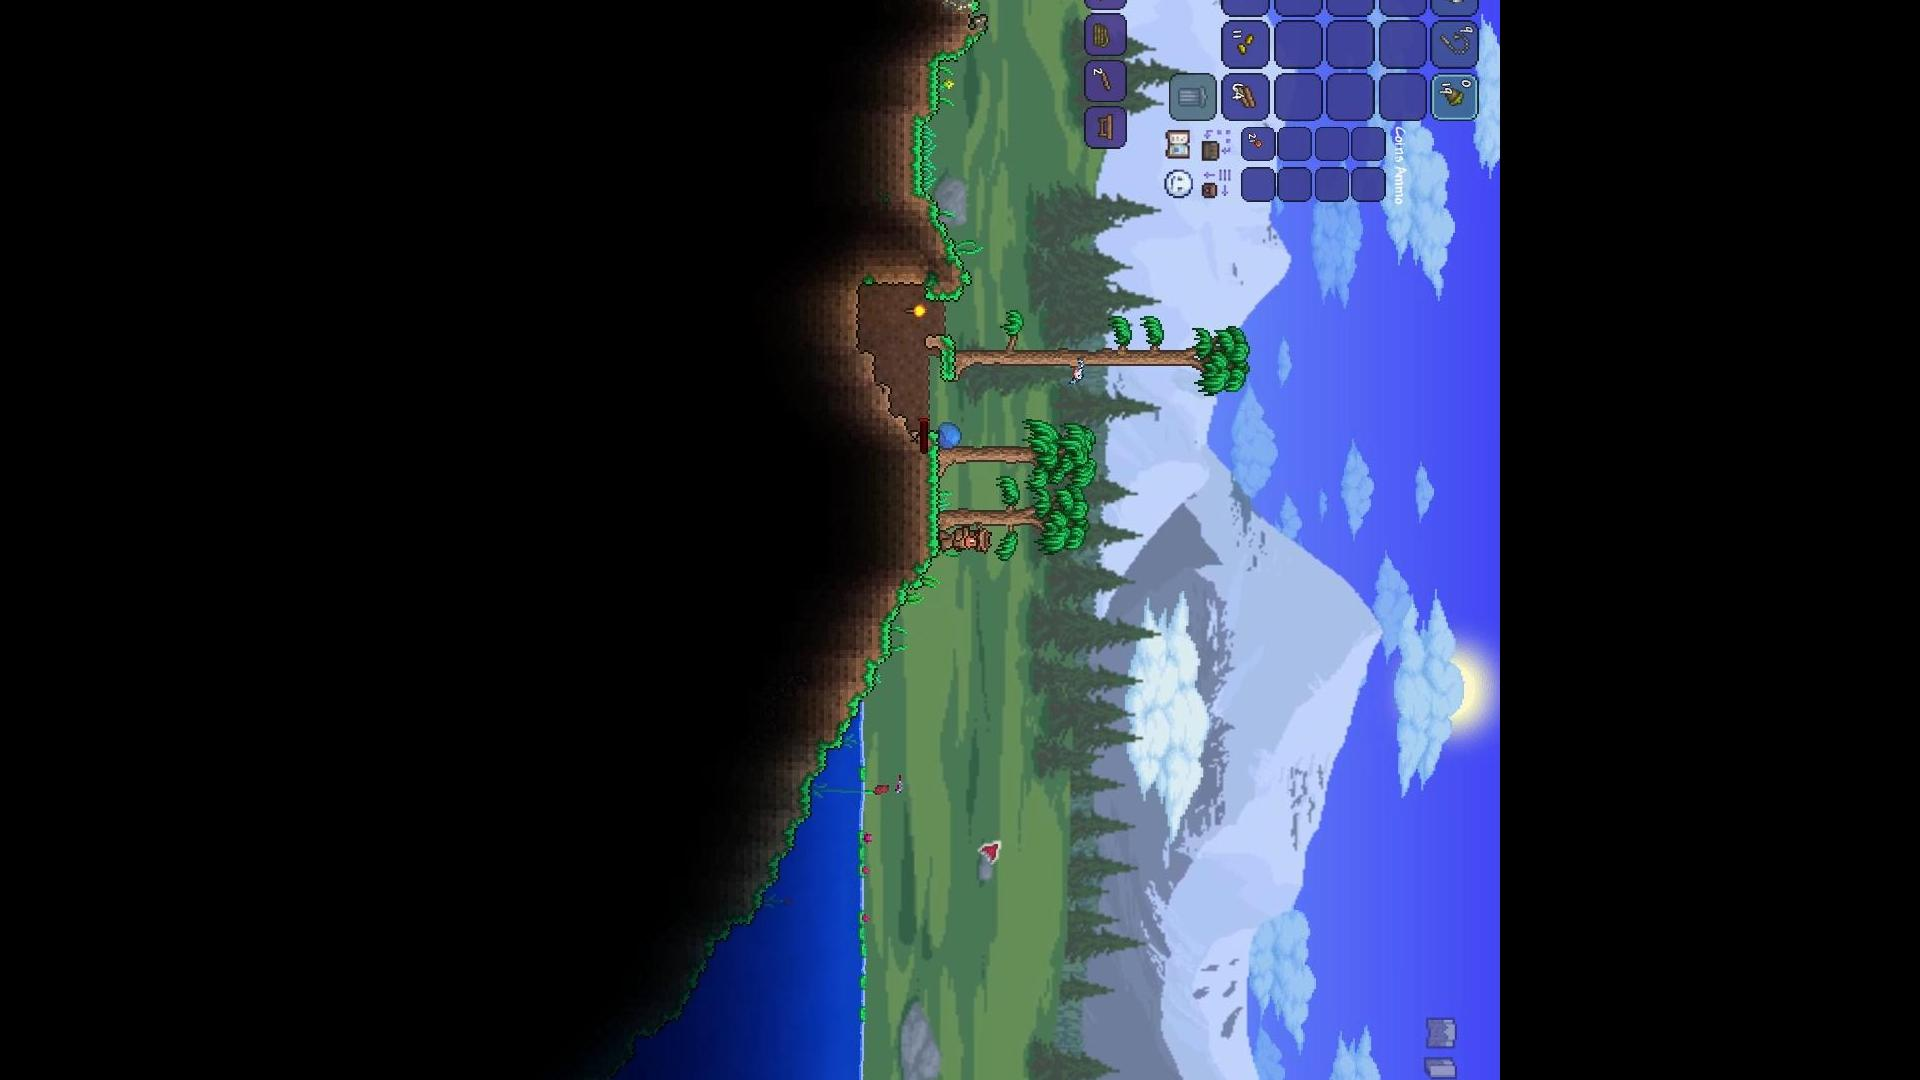slime: (932, 418, 964, 452)
